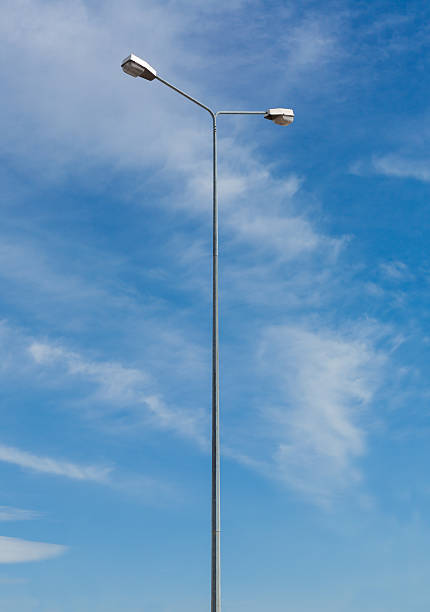light_pole: (204, 203, 228, 612)
